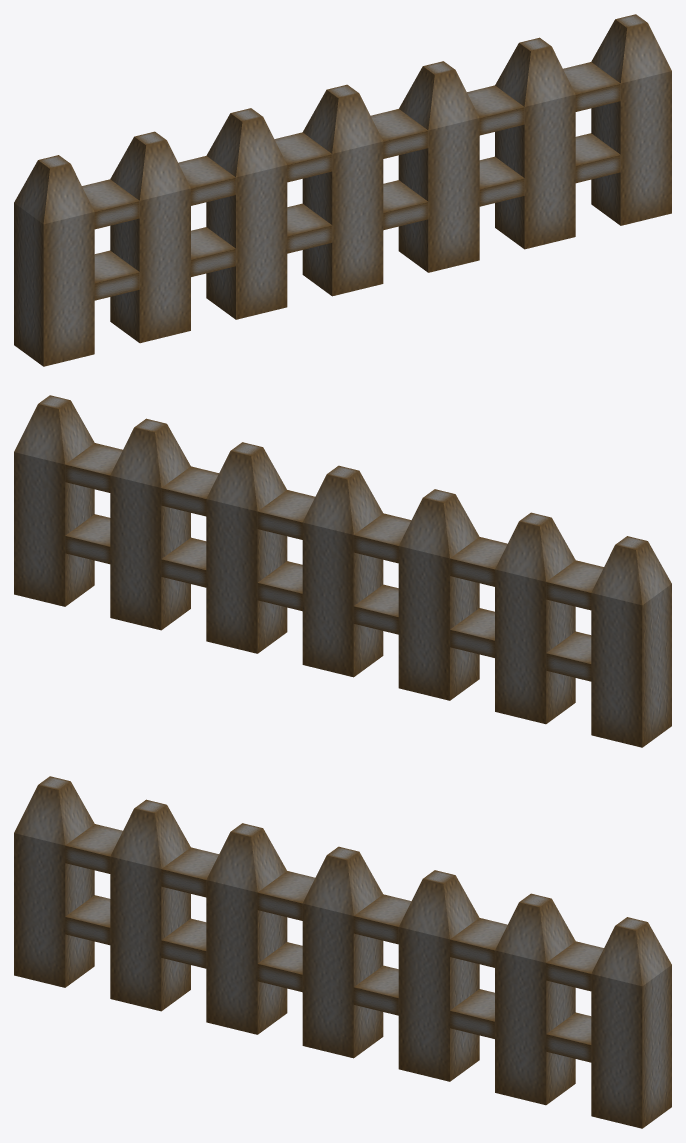
File: fence.fbx
3 renders of one model, top to bottom at view 1: azimuth 30°, elevation 25°; view 2: azimuth 150°, elevation 25°; view 3: azimuth 330°, elevation 25°, orthographic.
Parts seen in each view (by area): view 1: fence_01; view 2: fence_01; view 3: fence_01.
Part boxes in pixels (x1,y1,x2,y2): fence_01: (14,14,671,366); fence_01: (14,395,671,747); fence_01: (14,776,671,1128).
Bounding box in the file's own units: 9.23 × 2.64 × 0.7529.
Materials: 1 (1 with a texture image).
